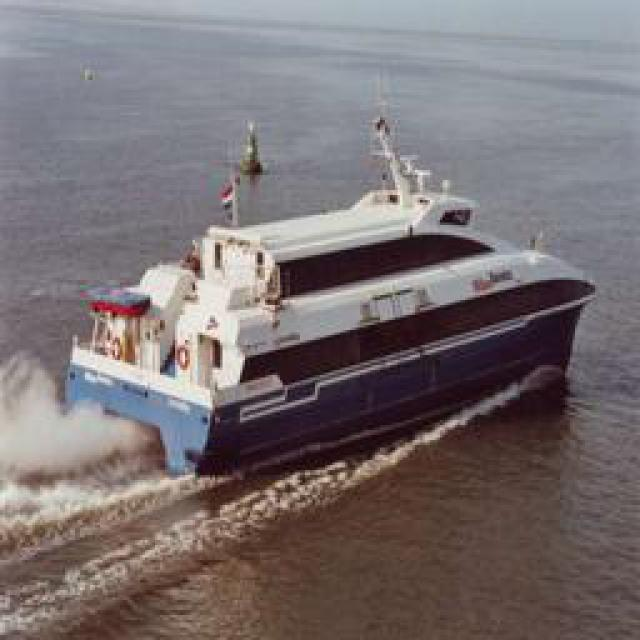Ship: (68, 100, 596, 478)
